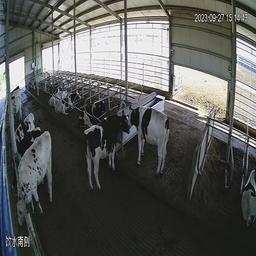cow: (79, 110, 130, 196), (16, 129, 54, 234), (127, 103, 171, 175), (15, 125, 44, 163), (14, 108, 37, 152), (241, 163, 256, 229), (77, 99, 109, 128), (54, 91, 81, 117), (7, 94, 23, 128), (35, 68, 52, 98), (48, 89, 69, 108)
